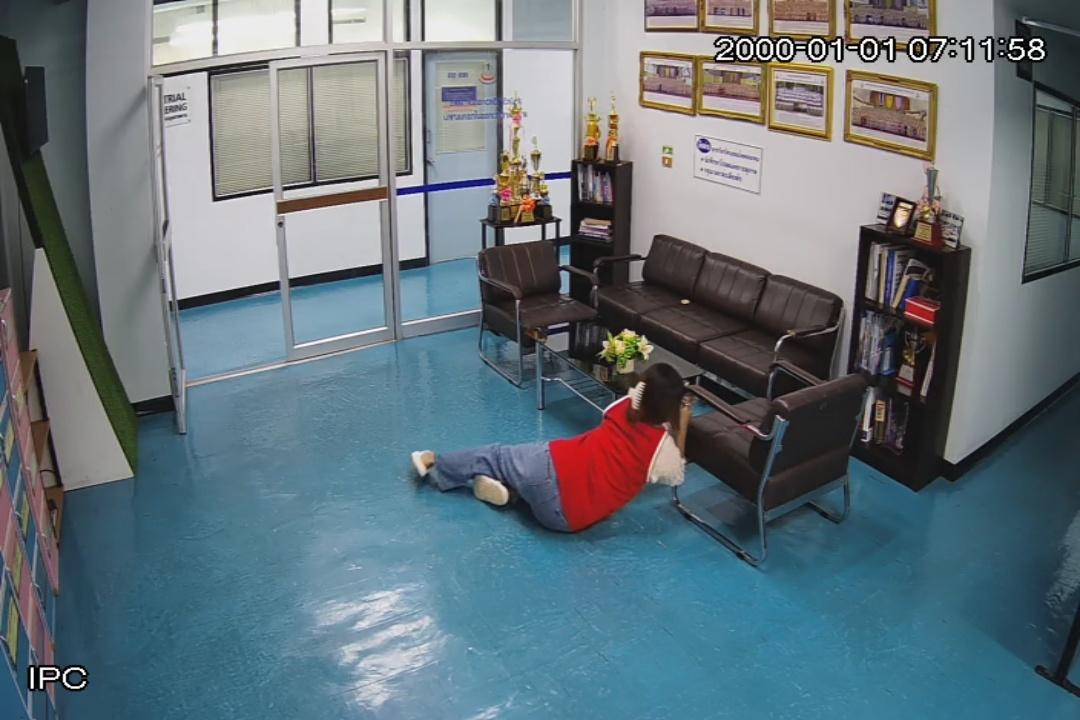fall: (411, 365, 688, 538)
